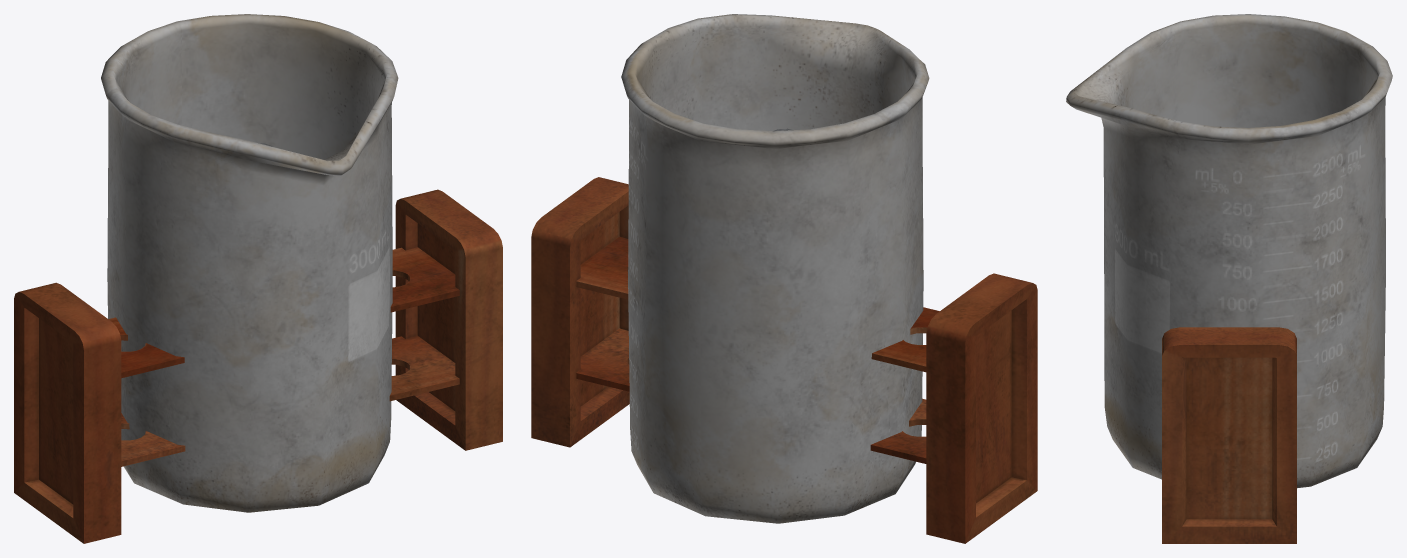
Rendered from ChemistryItem1_3.fbx.
3 views of the same model, side by side, from view 1: azimuth 30°, elevation 25°; view 2: azimuth 150°, elevation 25°; view 3: azimuth 270°, elevation 25° (orthographic). The views are drawn at different scales.
Parts seen in each view (by area): view 1: Chem_GB_2, Chem_TR; view 2: Chem_GB_2, Chem_TR; view 3: Chem_GB_2, Chem_TR.
Boxes of the visible parts, left/top/right/bottom form: Chem_GB_2: left=101, top=14, right=398, bottom=512; Chem_TR: left=14, top=189, right=502, bottom=543; Chem_GB_2: left=621, top=14, right=929, bottom=523; Chem_TR: left=531, top=177, right=1037, bottom=543; Chem_GB_2: left=1066, top=14, right=1392, bottom=488; Chem_TR: left=1162, top=327, right=1296, bottom=543.
Bounding box in the file's own units: 29.57 × 26.07 × 20.68.
